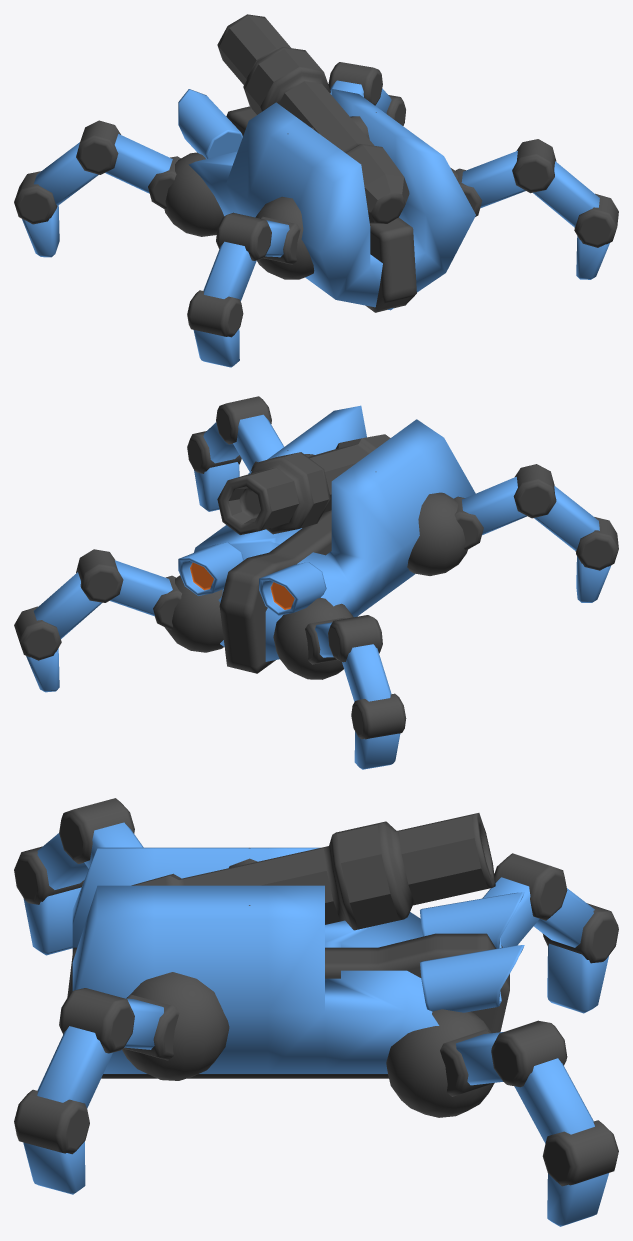
Rendered from SM_Spiderbot.fbx.
3 views of the same model, one above another, from view 1: azimuth 30°, elevation 25°; view 2: azimuth 150°, elevation 25°; view 3: azimuth 270°, elevation 25° (orthographic). The views are drawn at different scales.
Parts seen in each view (by area): view 1: Cylinder.001, Cube.002, Cube.001, Cube.003, Cube.004, Cylinder.002; view 2: Cube.001, Cylinder.001, Cube.002, Cube.003, Cube.004, Cylinder.002; view 3: Cylinder.001, Cube.001, Cube.002, Cube.003, Cylinder.002, Cube.004.
Part boxes in pixels (x1=…): Cylinder.001: x1=188, y1=89, x2=475, y2=310; Cube.002: x1=187, y1=139, x2=618, y2=367; Cube.001: x1=14, y1=62, x2=405, y2=257; Cube.003: x1=217, y1=14, x2=409, y2=223; Cube.004: x1=226, y1=106, x2=416, y2=312; Cylinder.002: x1=178, y1=89, x2=242, y2=158; Cube.001: x1=14, y1=549, x2=406, y2=769; Cylinder.001: x1=194, y1=405, x2=475, y2=661; Cube.002: x1=187, y1=396, x2=618, y2=602; Cube.003: x1=217, y1=434, x2=390, y2=534; Cube.004: x1=219, y1=510, x2=331, y2=673; Cylinder.002: x1=178, y1=542, x2=326, y2=615; Cylinder.001: x1=72, y1=847, x2=439, y2=1073; Cube.001: x1=386, y1=853, x2=618, y2=1226; Cube.002: x1=14, y1=798, x2=229, y2=1194; Cube.003: x1=131, y1=813, x2=495, y2=930; Cylinder.002: x1=420, y1=892, x2=524, y2=1012; Cube.004: x1=67, y1=933, x2=509, y2=1078.
Size of the model in its own units: 321 by 159 by 292.
